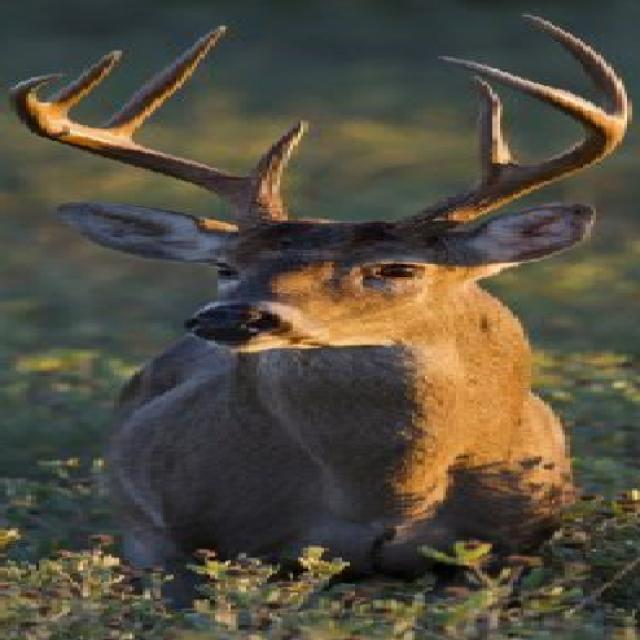L-F: (384, 55, 624, 246)
L-G1: (470, 75, 521, 178)
L-G2: (520, 13, 632, 126)
R-F: (6, 73, 286, 235)
R-G1: (247, 120, 312, 191)
R-G2: (99, 24, 230, 138)
R-G3: (47, 49, 125, 113)
